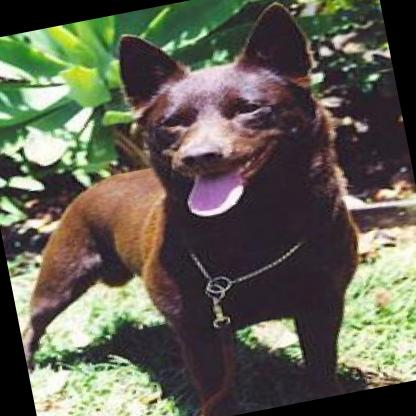kelpie: (0, 0, 386, 416)
